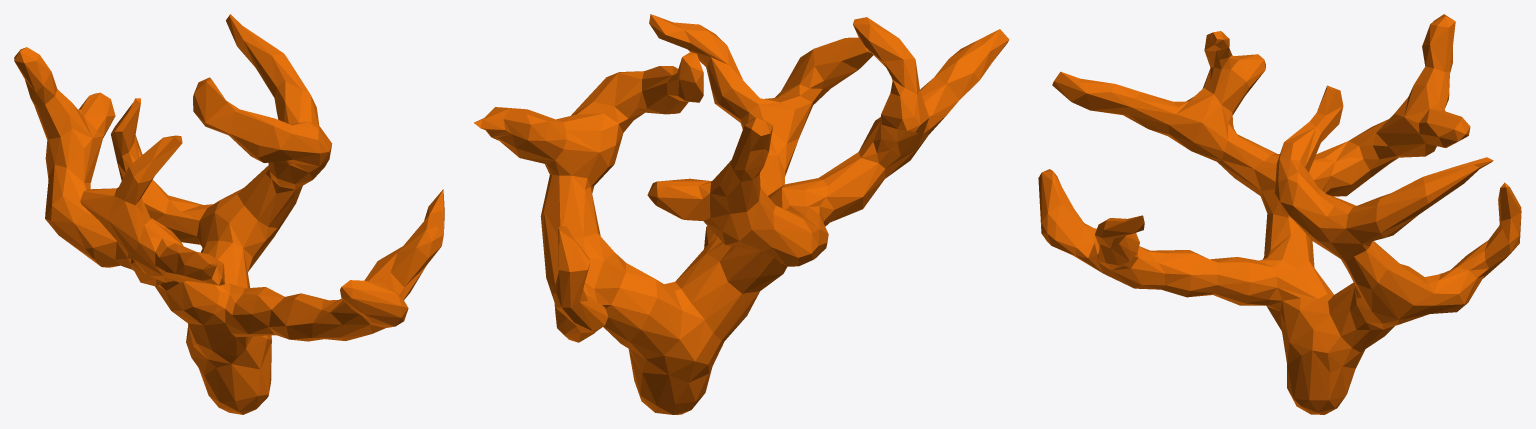
Rendered from Coral1.fbx.
3 views of the same model, side by side, from view 1: azimuth 30°, elevation 25°; view 2: azimuth 150°, elevation 25°; view 3: azimuth 270°, elevation 25° (orthographic). The views are drawn at different scales.
Visible parts, largest first — view 1: Coral.001; view 2: Coral.001; view 3: Coral.001.
Part boxes in pixels (x1,y1,x2,y2): Coral.001: (14,14,444,414); Coral.001: (474,14,1009,414); Coral.001: (1038,14,1521,414).
Bounding box in the file's own units: 46.08 × 50.65 × 67.41.
